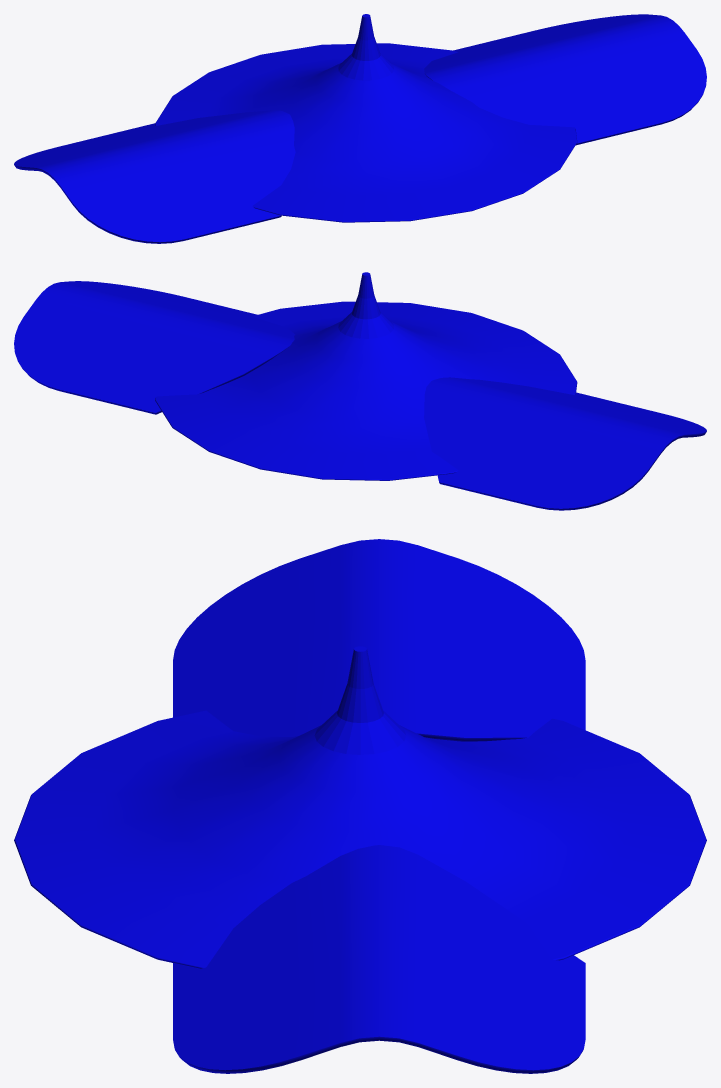
Rendered from SM_Roofcollision_01.fbx.
The picture shows the model from 3 angles, top to bottom: view 1: azimuth 30°, elevation 25°; view 2: azimuth 150°, elevation 25°; view 3: azimuth 270°, elevation 25°; orthographic projection. The views are drawn at different scales.
Parts seen in each view (by area): view 1: SM_Roofcollision_01; view 2: SM_Roofcollision_01; view 3: SM_Roofcollision_01.
Part boxes in pixels (x1,y1,x2,y2): SM_Roofcollision_01: [14, 14, 706, 243]; SM_Roofcollision_01: [14, 272, 706, 510]; SM_Roofcollision_01: [14, 539, 706, 1073].
Bounding box in the file's own units: 3719 × 715 × 2188.
